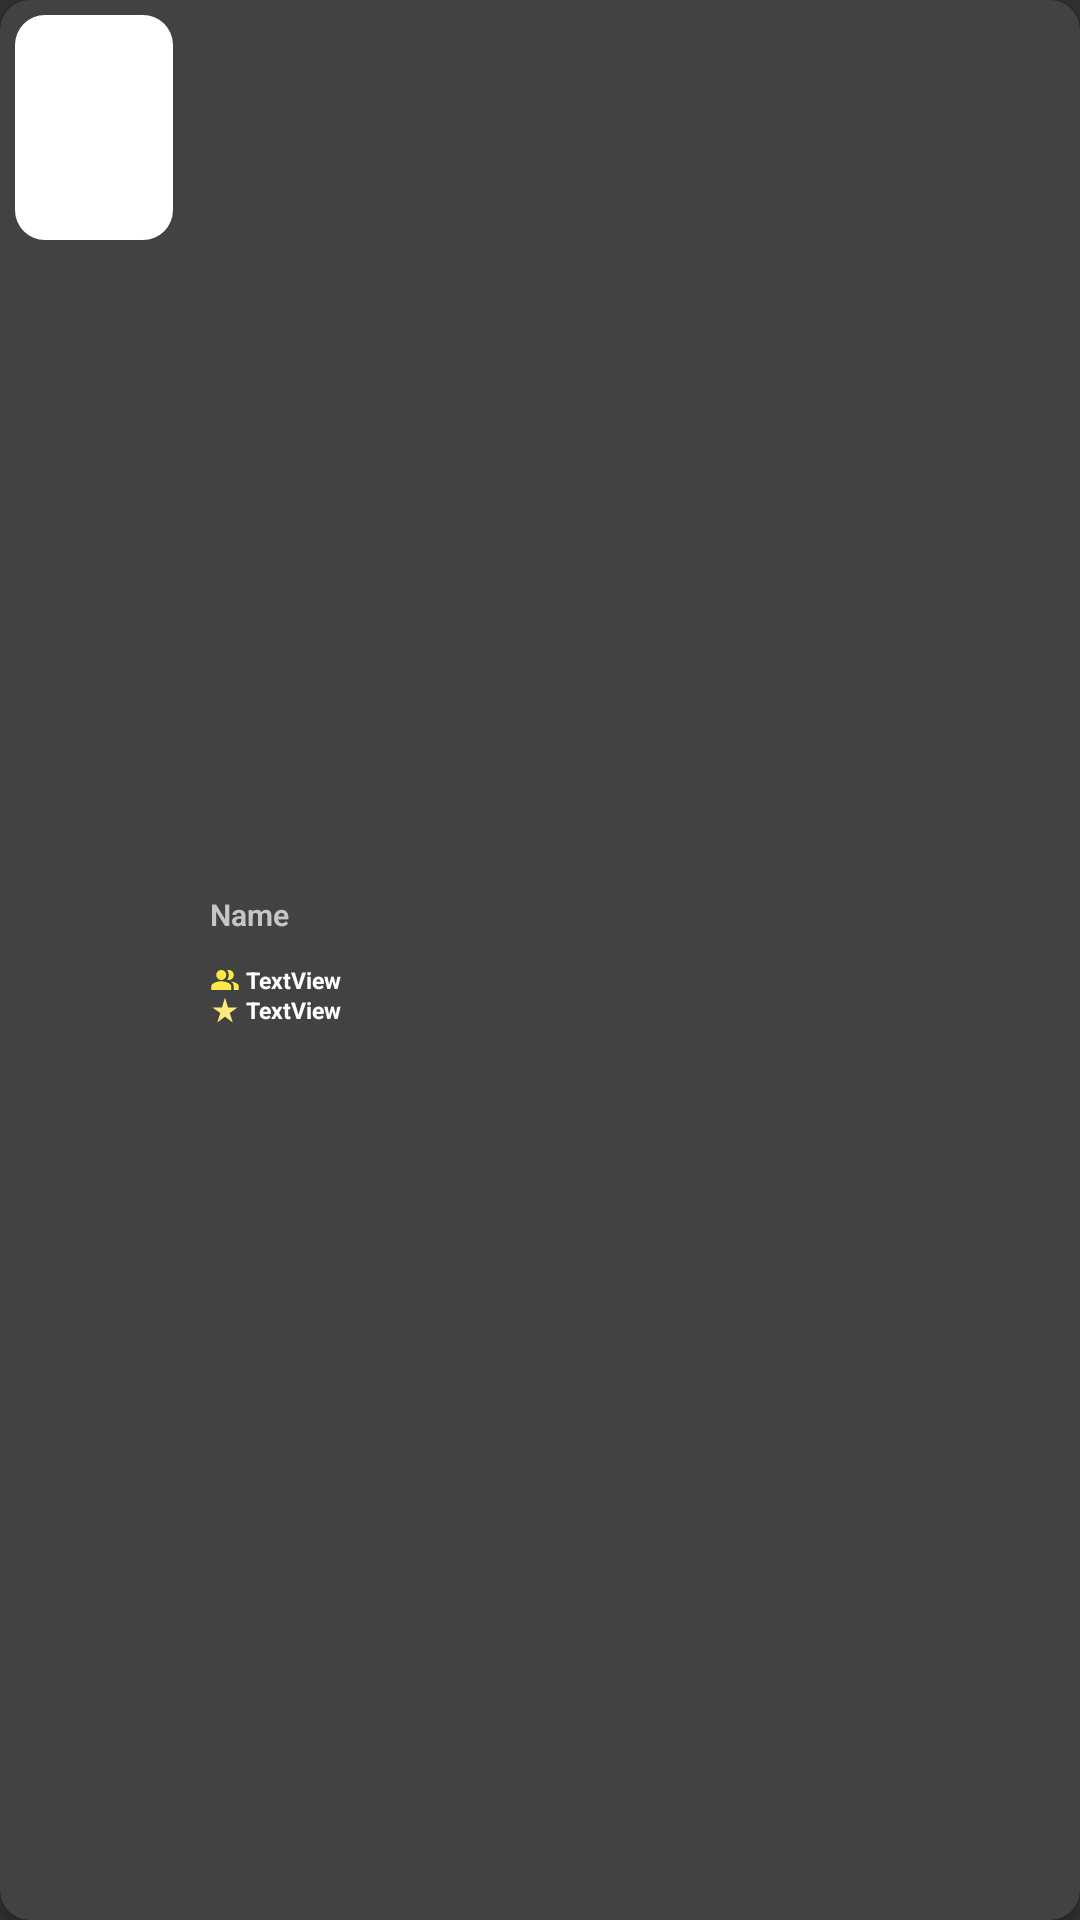

Locate icon controls on the screen. Image size 1080x1920, boxes as (x1, y1, x2, y2).
people: (211, 970, 239, 990)
star rate: (213, 998, 237, 1022)
